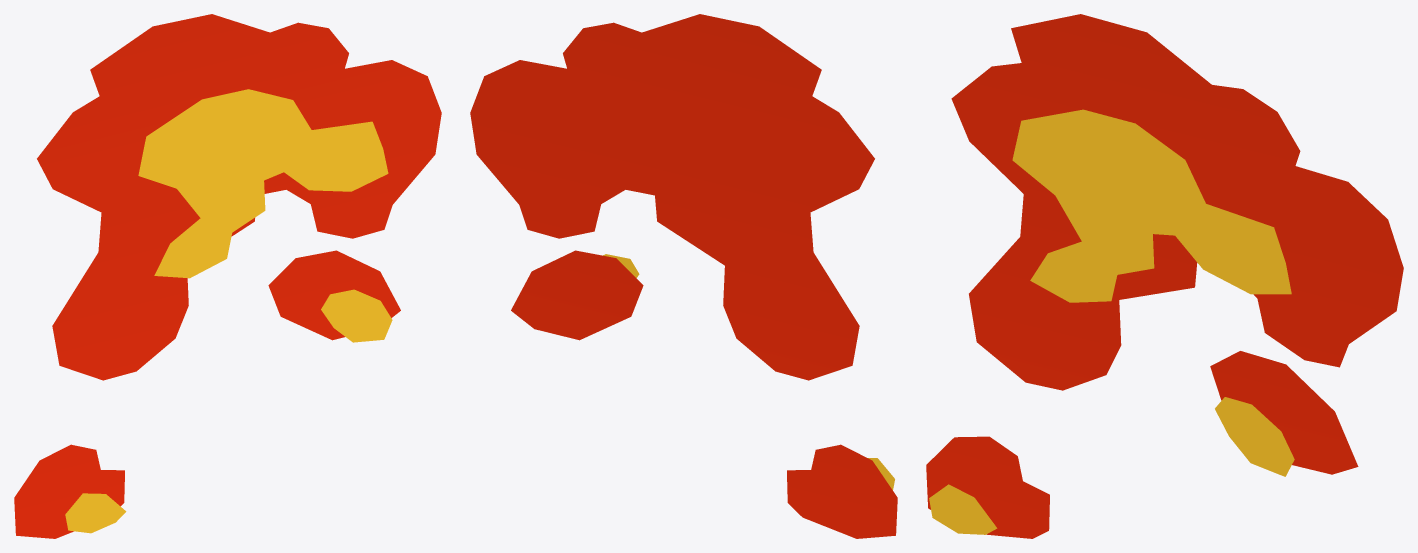
The model's file is fogonazo-009.gltf.
3 renders of one model, left to right at view 1: azimuth 30°, elevation 25°; view 2: azimuth 150°, elevation 25°; view 3: azimuth 330°, elevation 25°, orthographic. The views are drawn at different scales.
Parts seen in each view (by area): view 1: Caldero_Fogonazo-f.009; view 2: Caldero_Fogonazo-f.009; view 3: Caldero_Fogonazo-f.009.
Boxes of the visible parts, bbox=[...] form: Caldero_Fogonazo-f.009: bbox=[14, 14, 441, 538]; Caldero_Fogonazo-f.009: bbox=[470, 14, 897, 538]; Caldero_Fogonazo-f.009: bbox=[926, 14, 1403, 538].
Size of the model in its own units: 0.3058 by 0.334 by 0.03.
1 material, 1 textured.
